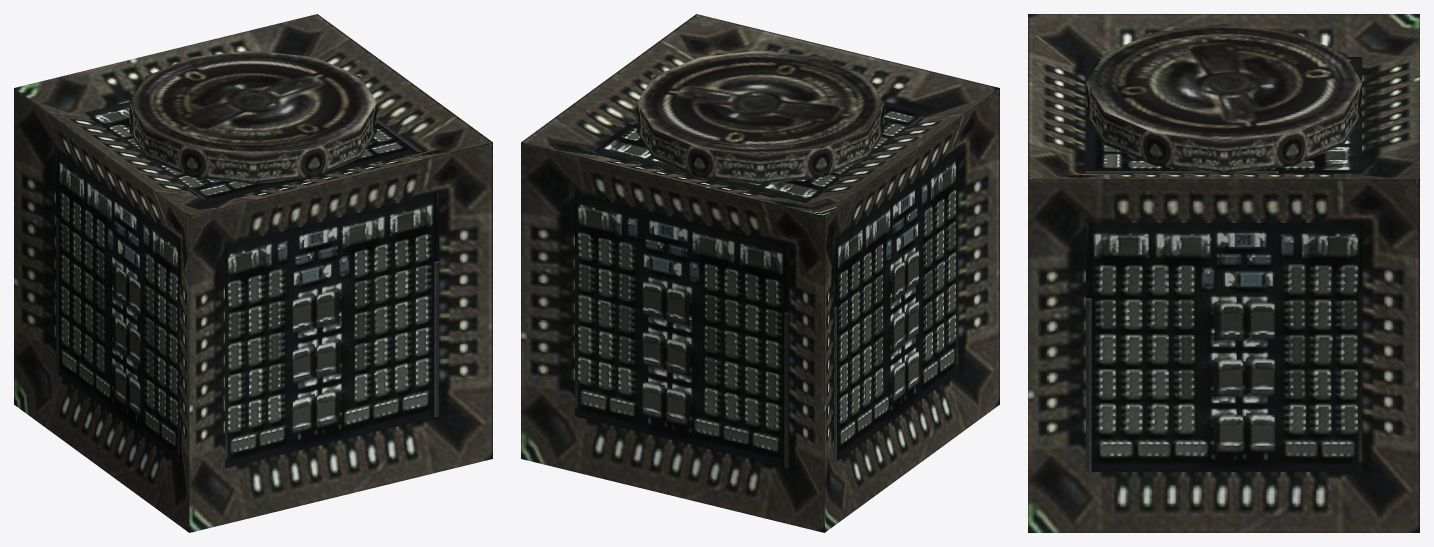
The model's file is Crate04.FBX.
3 renders of one model, left to right at view 1: azimuth 30°, elevation 25°; view 2: azimuth 150°, elevation 25°; view 3: azimuth 270°, elevation 25°, orthographic. The views are drawn at different scales.
Visible parts, largest first — view 1: Crate04; view 2: Crate04; view 3: Crate04.
Part boxes in pixels (box(x1,y1,x2,y2)): Crate04: box(14, 14, 492, 532); Crate04: box(521, 14, 999, 532); Crate04: box(1028, 14, 1419, 532).
Size of the model in its own units: 129 by 134 by 129.
